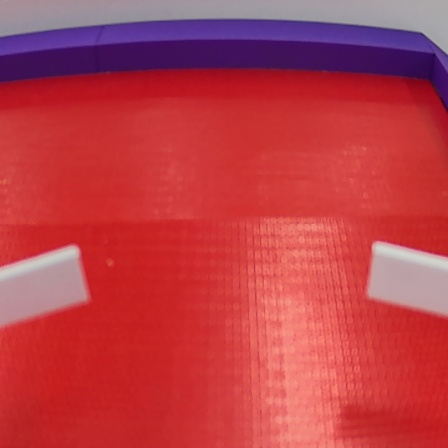red_aim: (0, 21, 448, 448)
